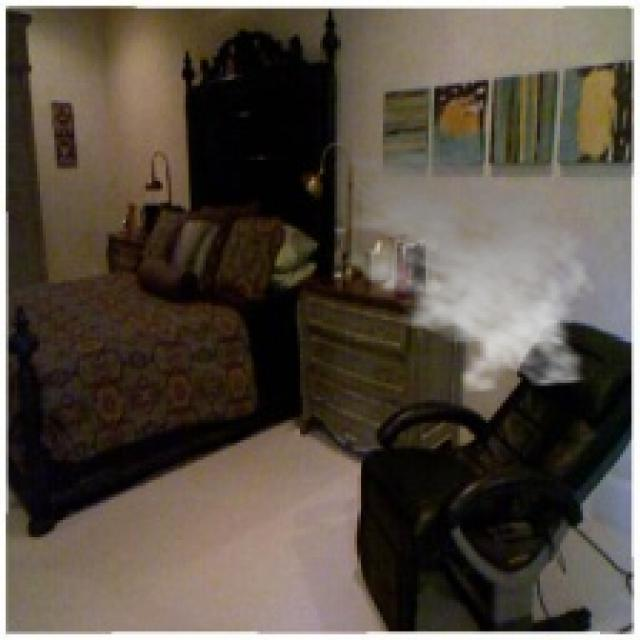Smoke: (326, 132, 600, 394)
